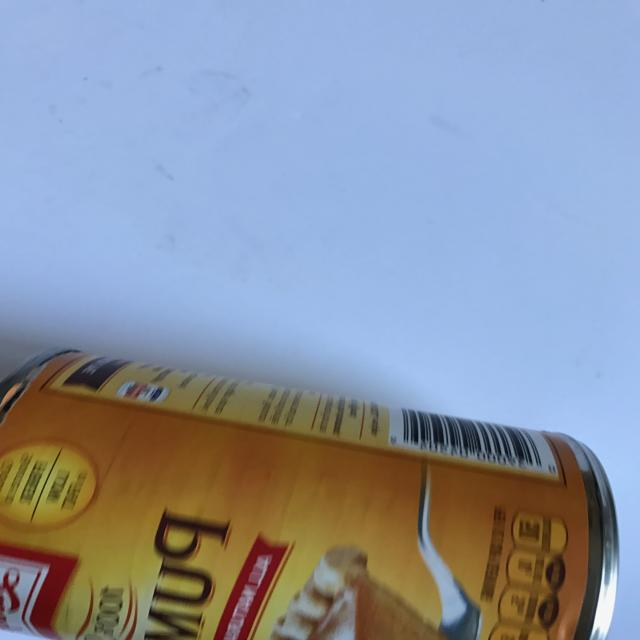metal: (0, 345, 620, 640)
